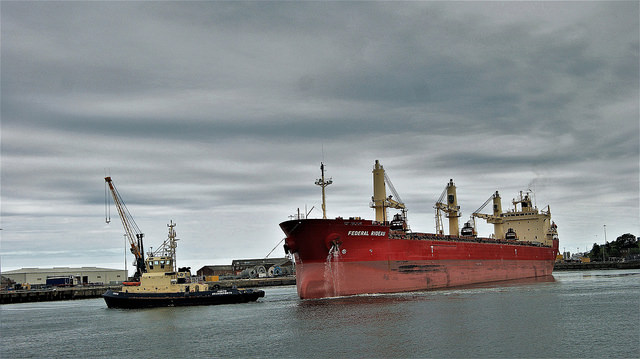bulk carrier: (276, 160, 559, 301)
tug_boat: (100, 214, 266, 310)
